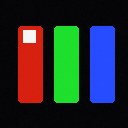1 square: (23, 30, 35, 42)
